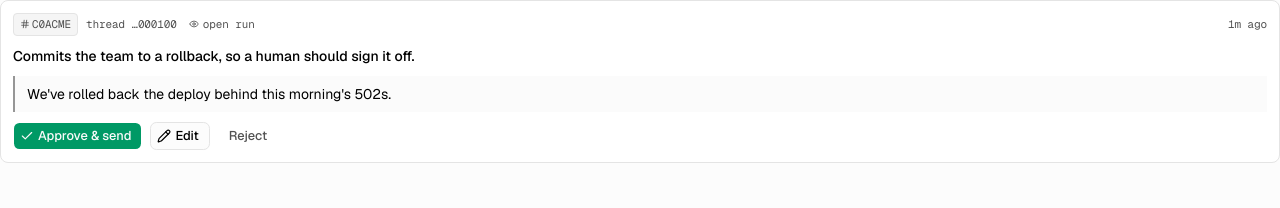
ApprovalCard › edits inline so the reason for the escalation stays on screen
The width and height of the screenshot is (1280, 208).
Click the button "Edit" at coordinates (180, 136), box [150,122,210,150]
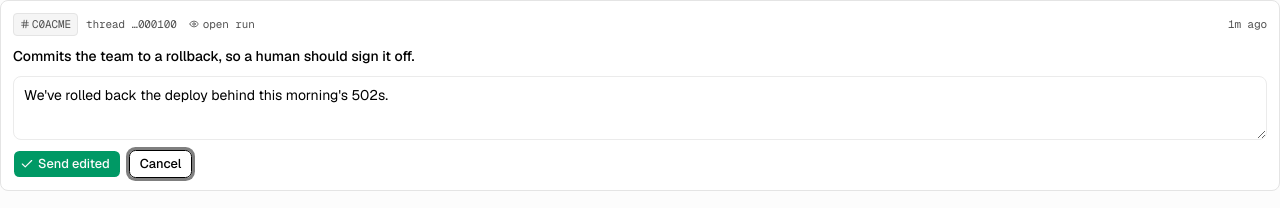
Expected: the text "Commits the team to a rollback, so a human should sign it off." is shown, [13,46,414,64]
Expected: the text box named "edited reply" is shown, [13,76,1267,140]
